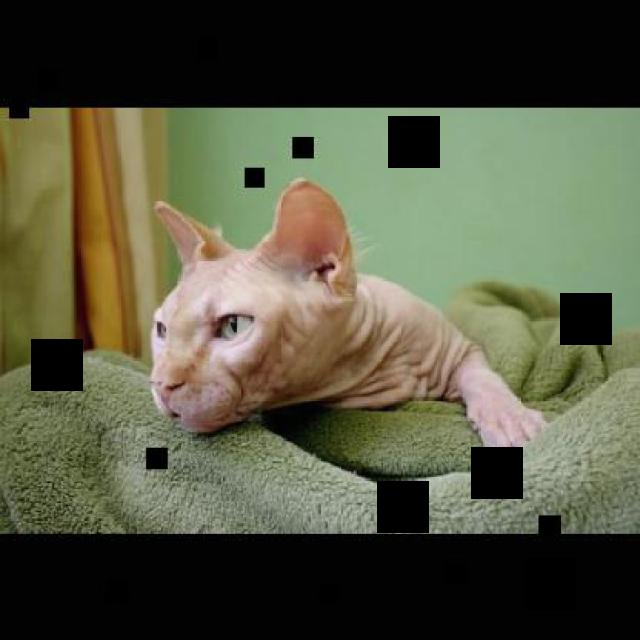unauthorized: (148, 176, 549, 464)
